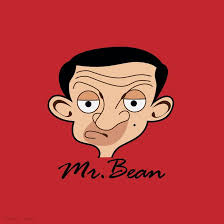mrbean: (47, 47, 175, 159)
